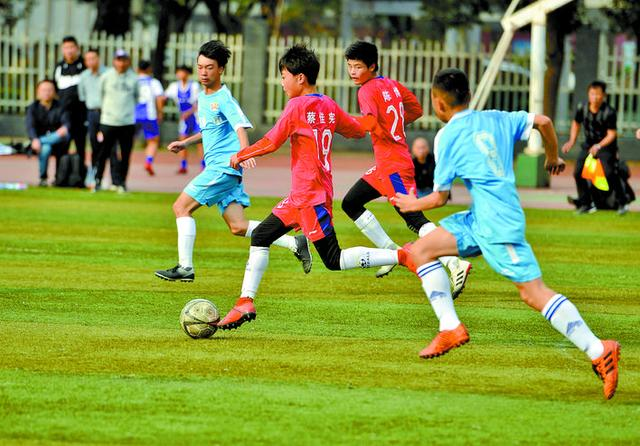football: (180, 297, 220, 338)
